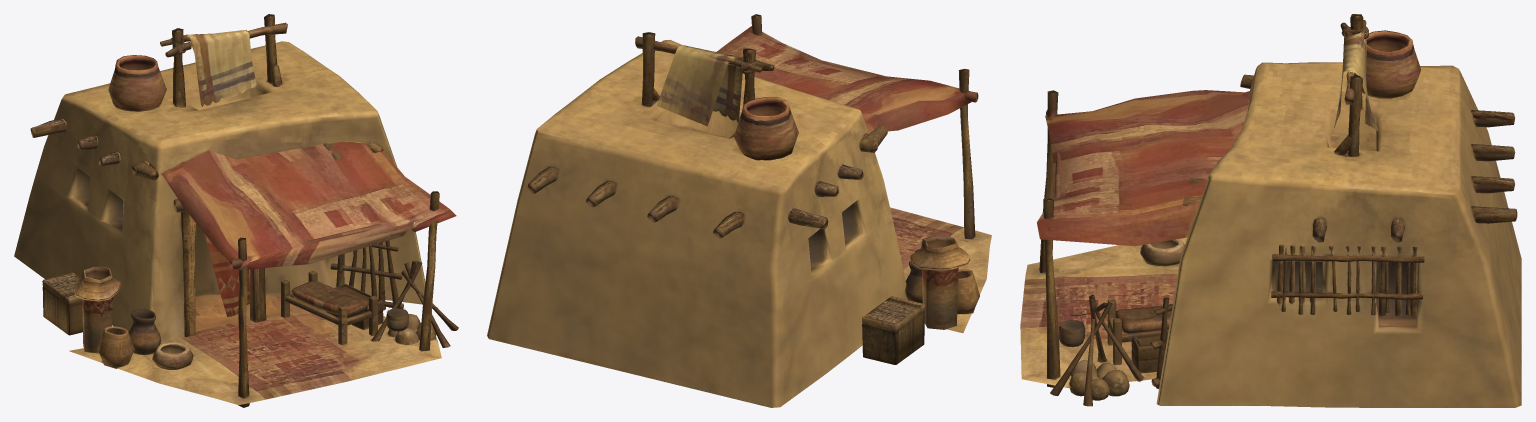
File: tripo_convert_7b1fd42d-82f6-46ee-9296-b6ca931db1a6.fbx
3 views of the same model, side by side, from view 1: azimuth 30°, elevation 25°; view 2: azimuth 150°, elevation 25°; view 3: azimuth 270°, elevation 25° (orthographic). The views are drawn at different scales.
Parts seen in each view (by area): view 1: tripo_node_7b1fd42d; view 2: tripo_node_7b1fd42d; view 3: tripo_node_7b1fd42d.
Part boxes in pixels (bbox=[...]): tripo_node_7b1fd42d: bbox=[14, 14, 458, 407]; tripo_node_7b1fd42d: bbox=[487, 14, 991, 407]; tripo_node_7b1fd42d: bbox=[1020, 14, 1521, 407].
Size of the model in its own units: 0.8735 by 0.6704 by 0.9995.
1 material, 1 textured.
